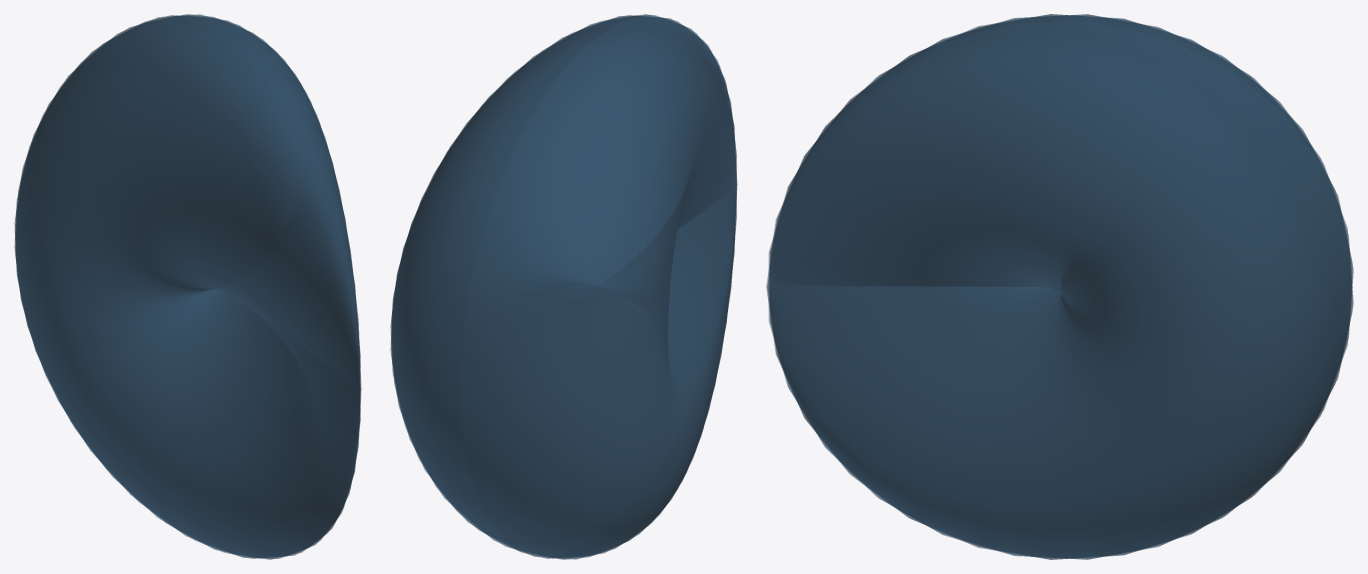
The model's file is cross_cap.glb.
3 renders of one model, left to right at view 1: azimuth 30°, elevation 25°; view 2: azimuth 150°, elevation 25°; view 3: azimuth 270°, elevation 25°, orthographic. The views are drawn at different scales.
Parts seen in each view (by area): view 1: MathVisualization_0; view 2: MathVisualization_0; view 3: MathVisualization_0.
Part boxes in pixels (bbox=[...]): MathVisualization_0: bbox=[14, 14, 361, 559]; MathVisualization_0: bbox=[390, 14, 737, 559]; MathVisualization_0: bbox=[766, 14, 1353, 559].
Bounding box in the file's own units: 1.5 × 3 × 3.
